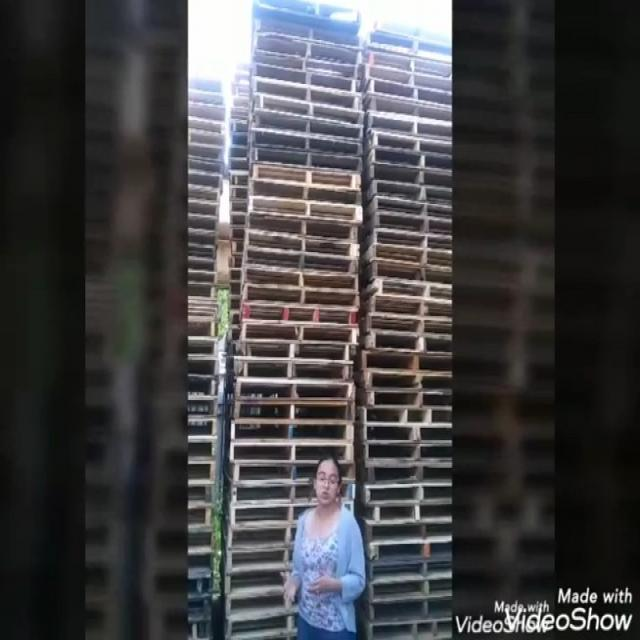Palette: (228, 0, 356, 640), (364, 13, 455, 638), (187, 70, 219, 636)
